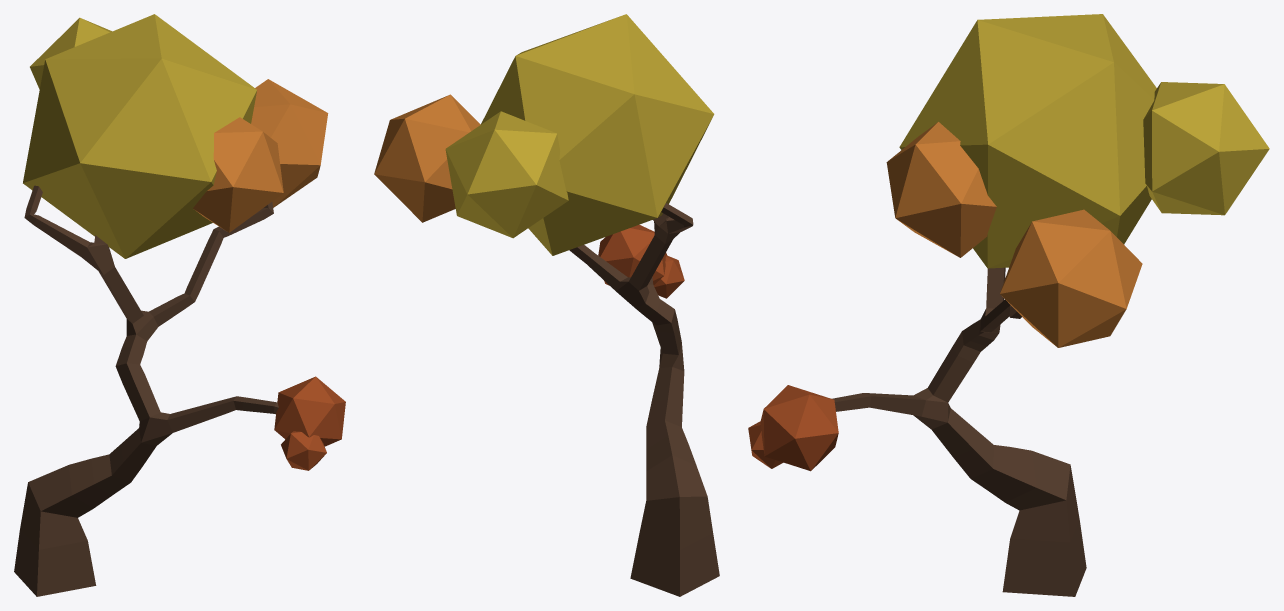
Rendered from ico_tree_orange.glb.
The picture shows the model from 3 angles, left to right: view 1: azimuth 30°, elevation 25°; view 2: azimuth 150°, elevation 25°; view 3: azimuth 270°, elevation 25°; orthographic projection. The views are drawn at different scales.
Visible parts, largest first — view 1: Icosphere.040, Cube.010, Icosphere.038, Icosphere.035, Icosphere.037, Icosphere.039, Icosphere.036; view 2: Icosphere.040, Cube.010, Icosphere.039, Icosphere.035, Icosphere.037, Icosphere.036; view 3: Icosphere.040, Cube.010, Icosphere.035, Icosphere.039, Icosphere.038, Icosphere.037.
Boxes of the visible parts, x1,y1,x2,y2 form: Icosphere.040: [23, 14, 256, 258]; Cube.010: [14, 185, 278, 596]; Icosphere.038: [193, 117, 283, 232]; Icosphere.035: [251, 79, 328, 207]; Icosphere.037: [274, 376, 345, 446]; Icosphere.039: [30, 17, 111, 89]; Icosphere.036: [281, 431, 326, 470]; Icosphere.040: [480, 14, 714, 255]; Cube.010: [569, 203, 719, 596]; Icosphere.039: [445, 111, 568, 238]; Icosphere.035: [374, 94, 480, 222]; Icosphere.037: [598, 224, 667, 285]; Icosphere.036: [654, 255, 684, 298]; Icosphere.040: [899, 14, 1156, 268]; Cube.010: [832, 267, 1086, 596]; Icosphere.035: [1000, 209, 1142, 347]; Icosphere.039: [1143, 82, 1269, 215]; Icosphere.038: [886, 122, 996, 257]; Icosphere.037: [760, 385, 838, 471].
Size of the model in its own units: 5.45 by 8.78 by 6.86.
